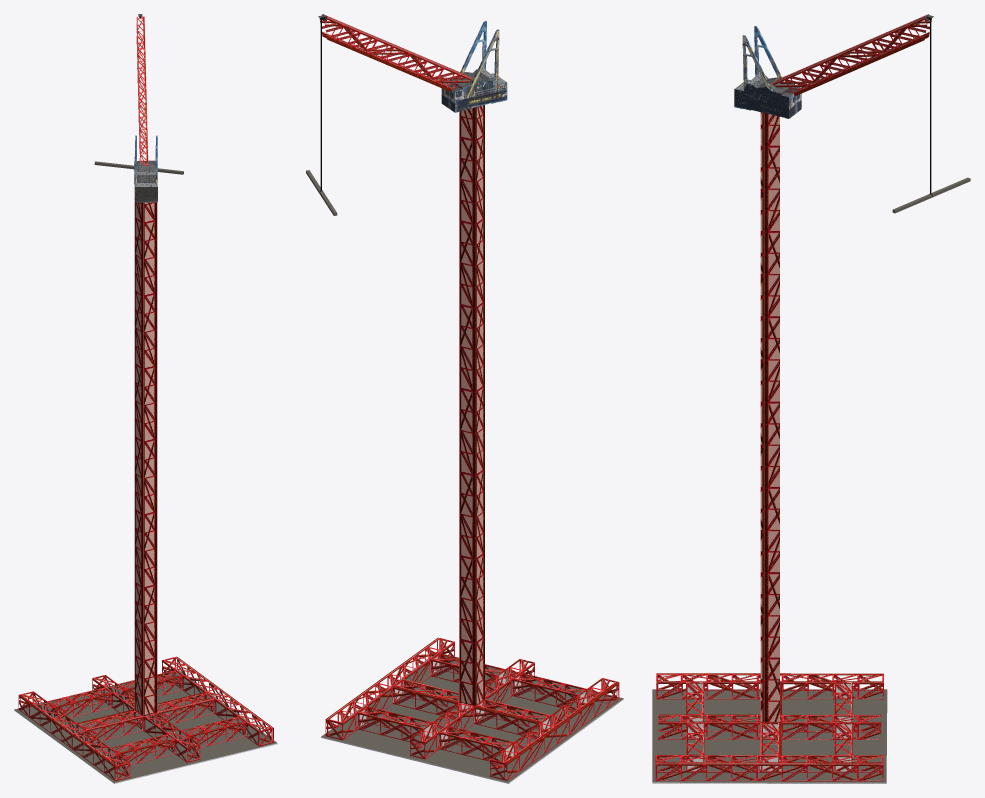
3 renders of one model, left to right at view 1: azimuth 30°, elevation 25°; view 2: azimuth 150°, elevation 25°; view 3: azimuth 270°, elevation 25°, orthographic. The views are drawn at different scales.
Parts seen in each view (by area): view 1: SketchUp (×4); view 2: SketchUp (×6); view 3: SketchUp (×5).
Part boxes in pixels (x1,y1,x2,y2): SketchUp (×4): [14, 16, 277, 782]; SketchUp (×6): [319, 14, 623, 783]; SketchUp (×5): [652, 14, 931, 782].
Size of the model in its own units: 1102 by 1498 by 3931.
Materials: 42 (30 with a texture image).
